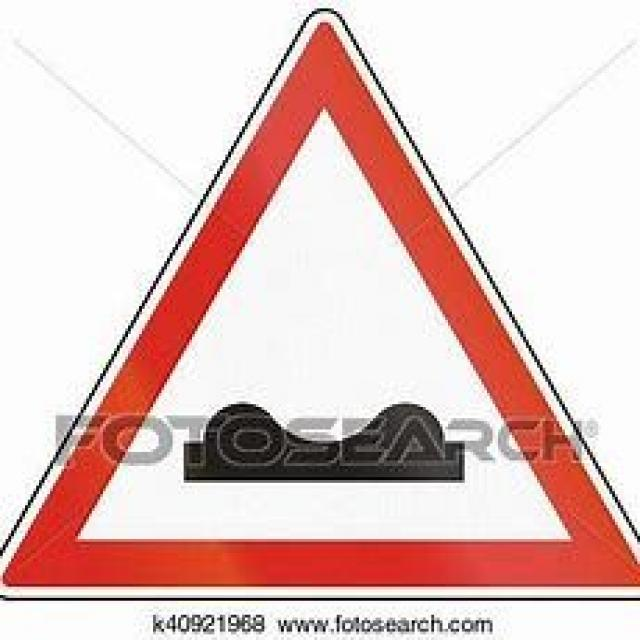HUMP_OR_ROUGH_ROAD: (0, 6, 637, 595)
